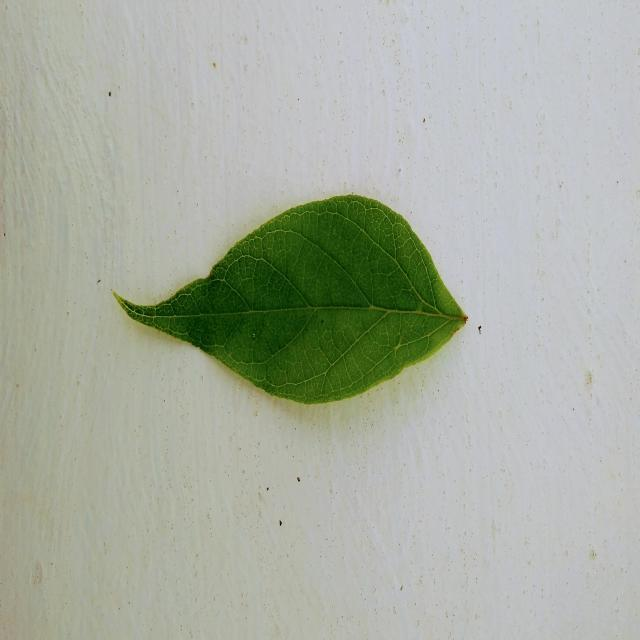leaf: (111, 192, 468, 405)
